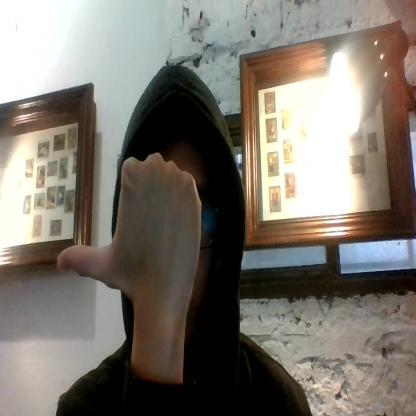right: (57, 151, 202, 315)
